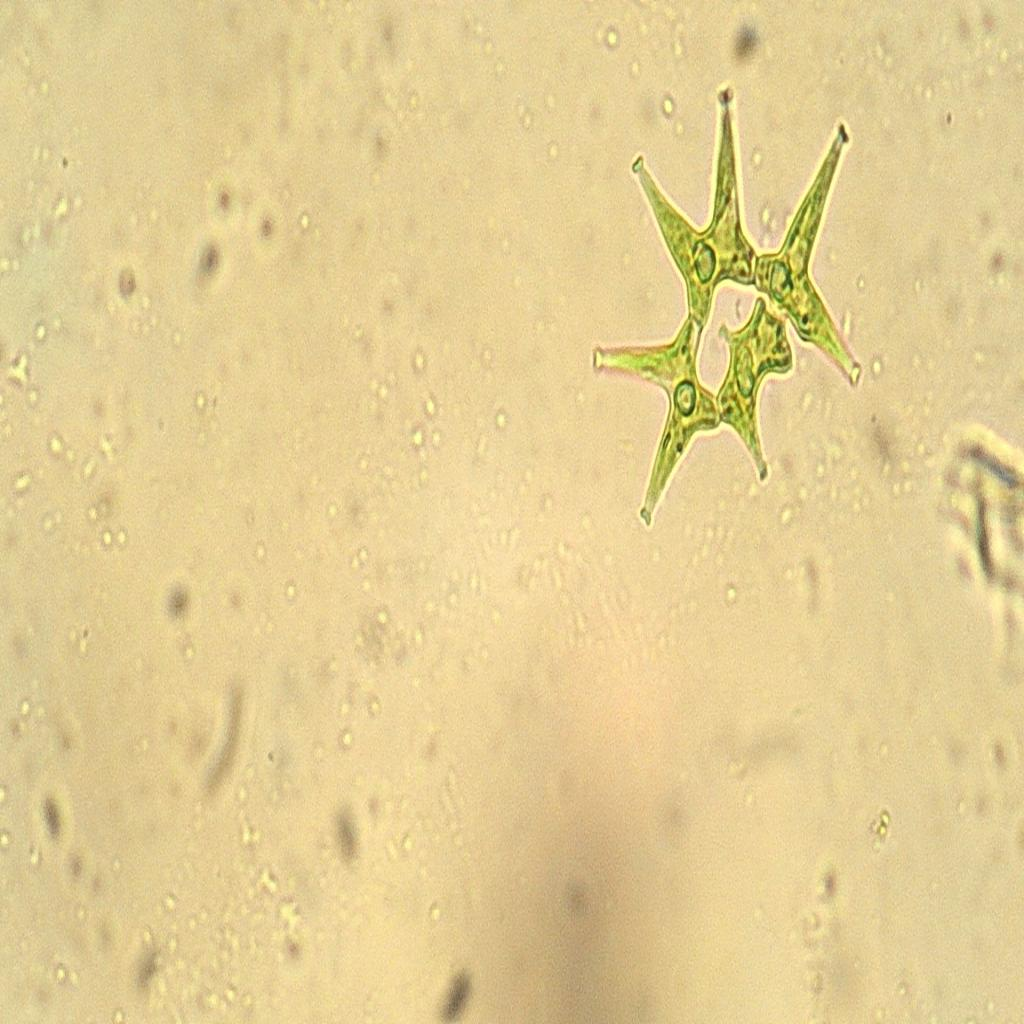Pediastrum_CF: (580, 52, 877, 574)
